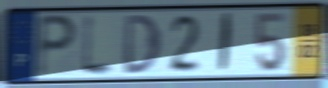2: (167, 13, 203, 75)
5: (254, 11, 288, 74)
D: (123, 12, 164, 76)
I: (216, 11, 235, 75)
L: (80, 10, 118, 80)
P: (34, 12, 80, 80)
